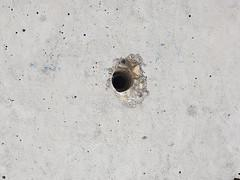Spalling: (110, 53, 150, 110)
